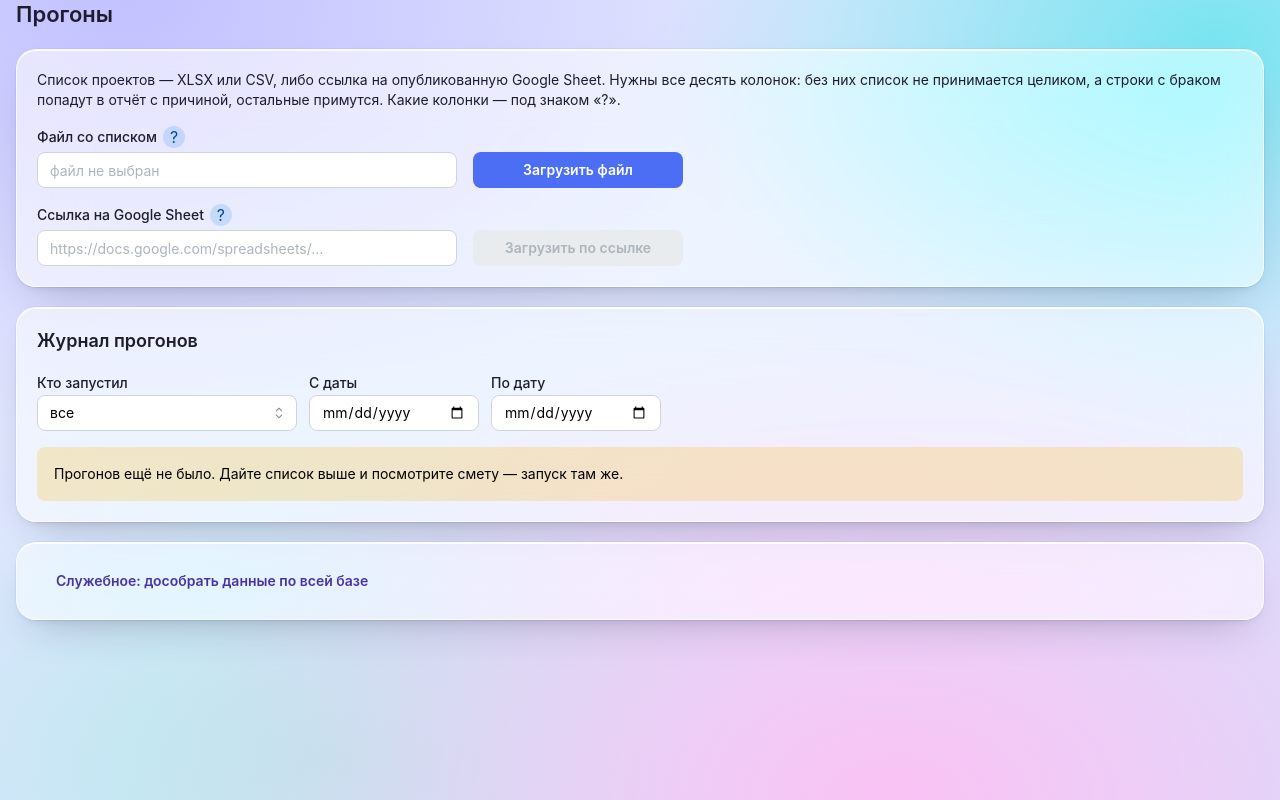
Test: вторая кнопка: шаг 2 и данные под кейс (B6) › B6: вторая кнопка — смета кандидатов и запуск шага 2
Click the button "Служебное: дособрать данные по всей базе": (212, 581) [37, 563, 387, 599]
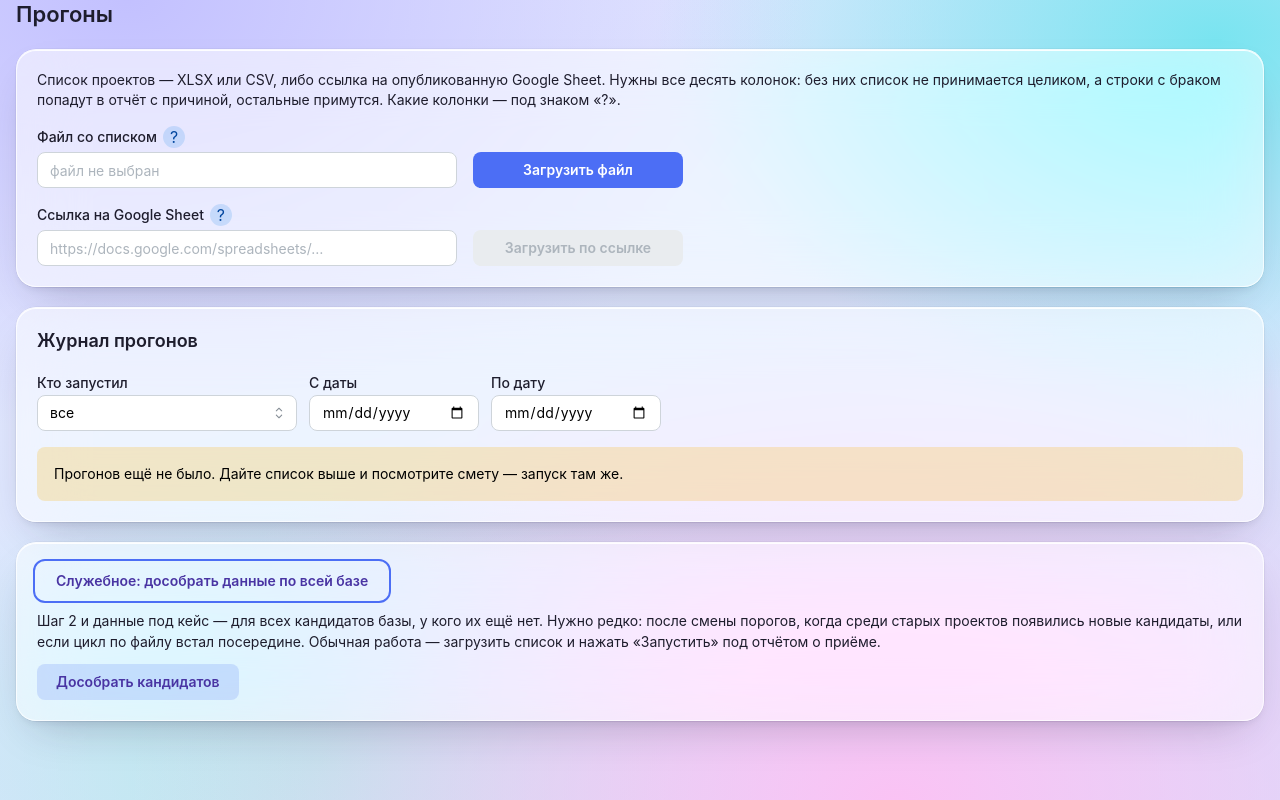
Click the button "Дособрать кандидатов": (138, 682) [37, 664, 239, 700]
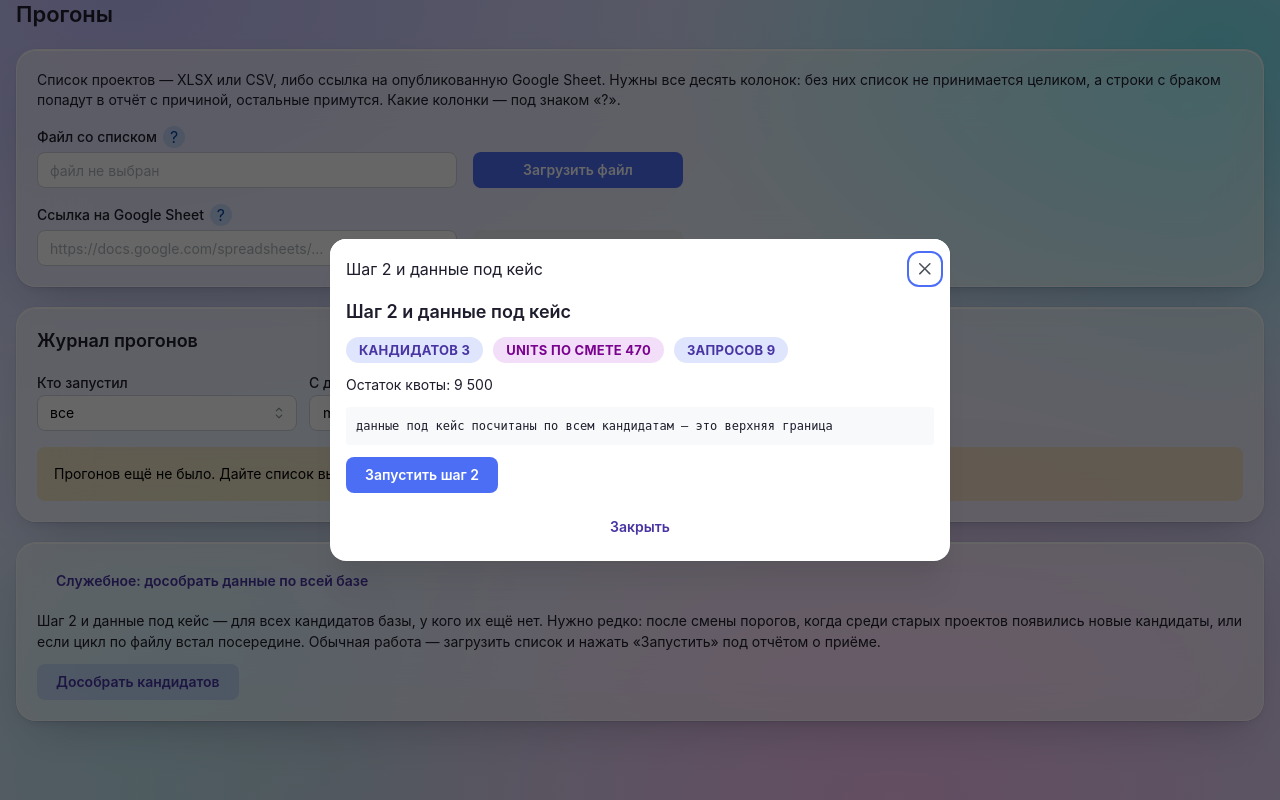
Result: the dialog is shown at [330, 238, 950, 562]
Result: the text "кандидатов 3" is shown at [359, 338, 470, 362]
Result: the text "верхняя граница" is shown at [356, 419, 833, 433]
Click the button "Запустить шаг 2": (422, 476) [346, 458, 498, 494]
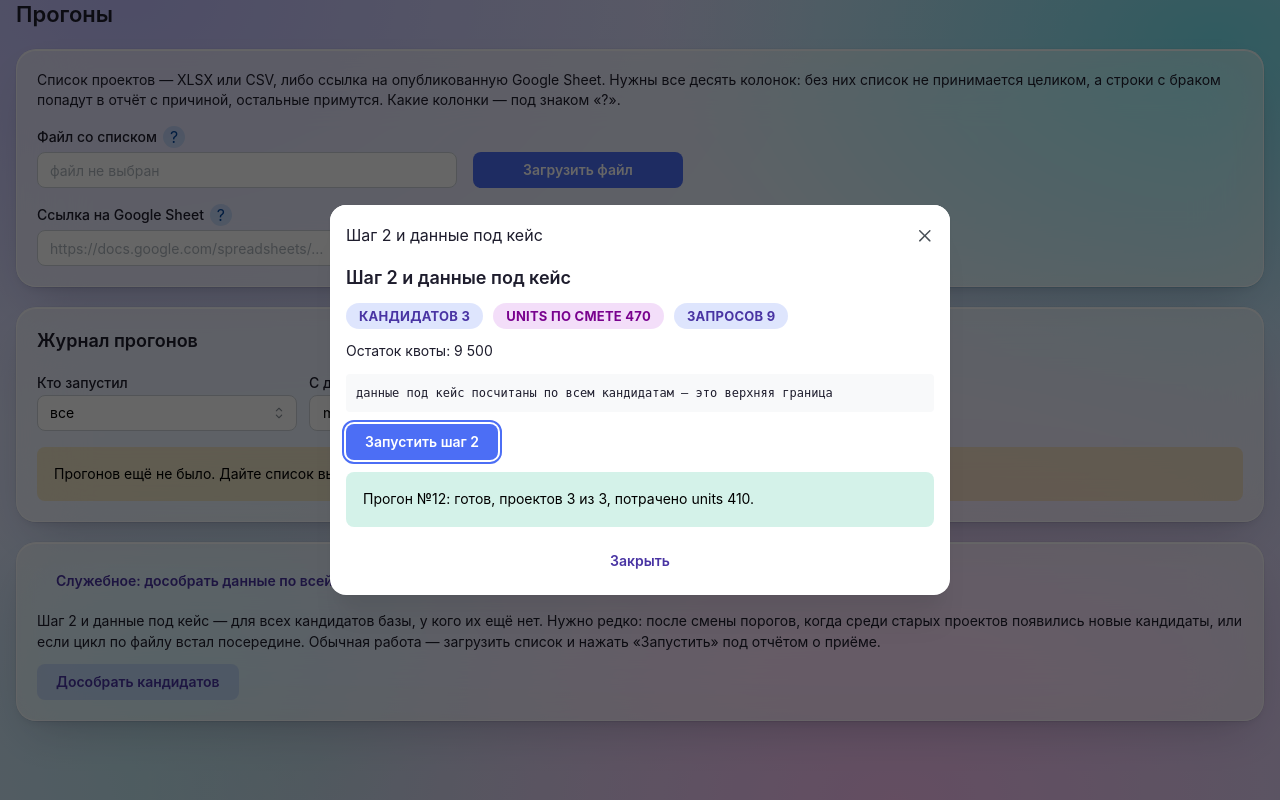
Result: the text "Прогон №12: готов, проектов 3 из 3, потрачено units 410." is shown at [363, 490, 754, 507]
